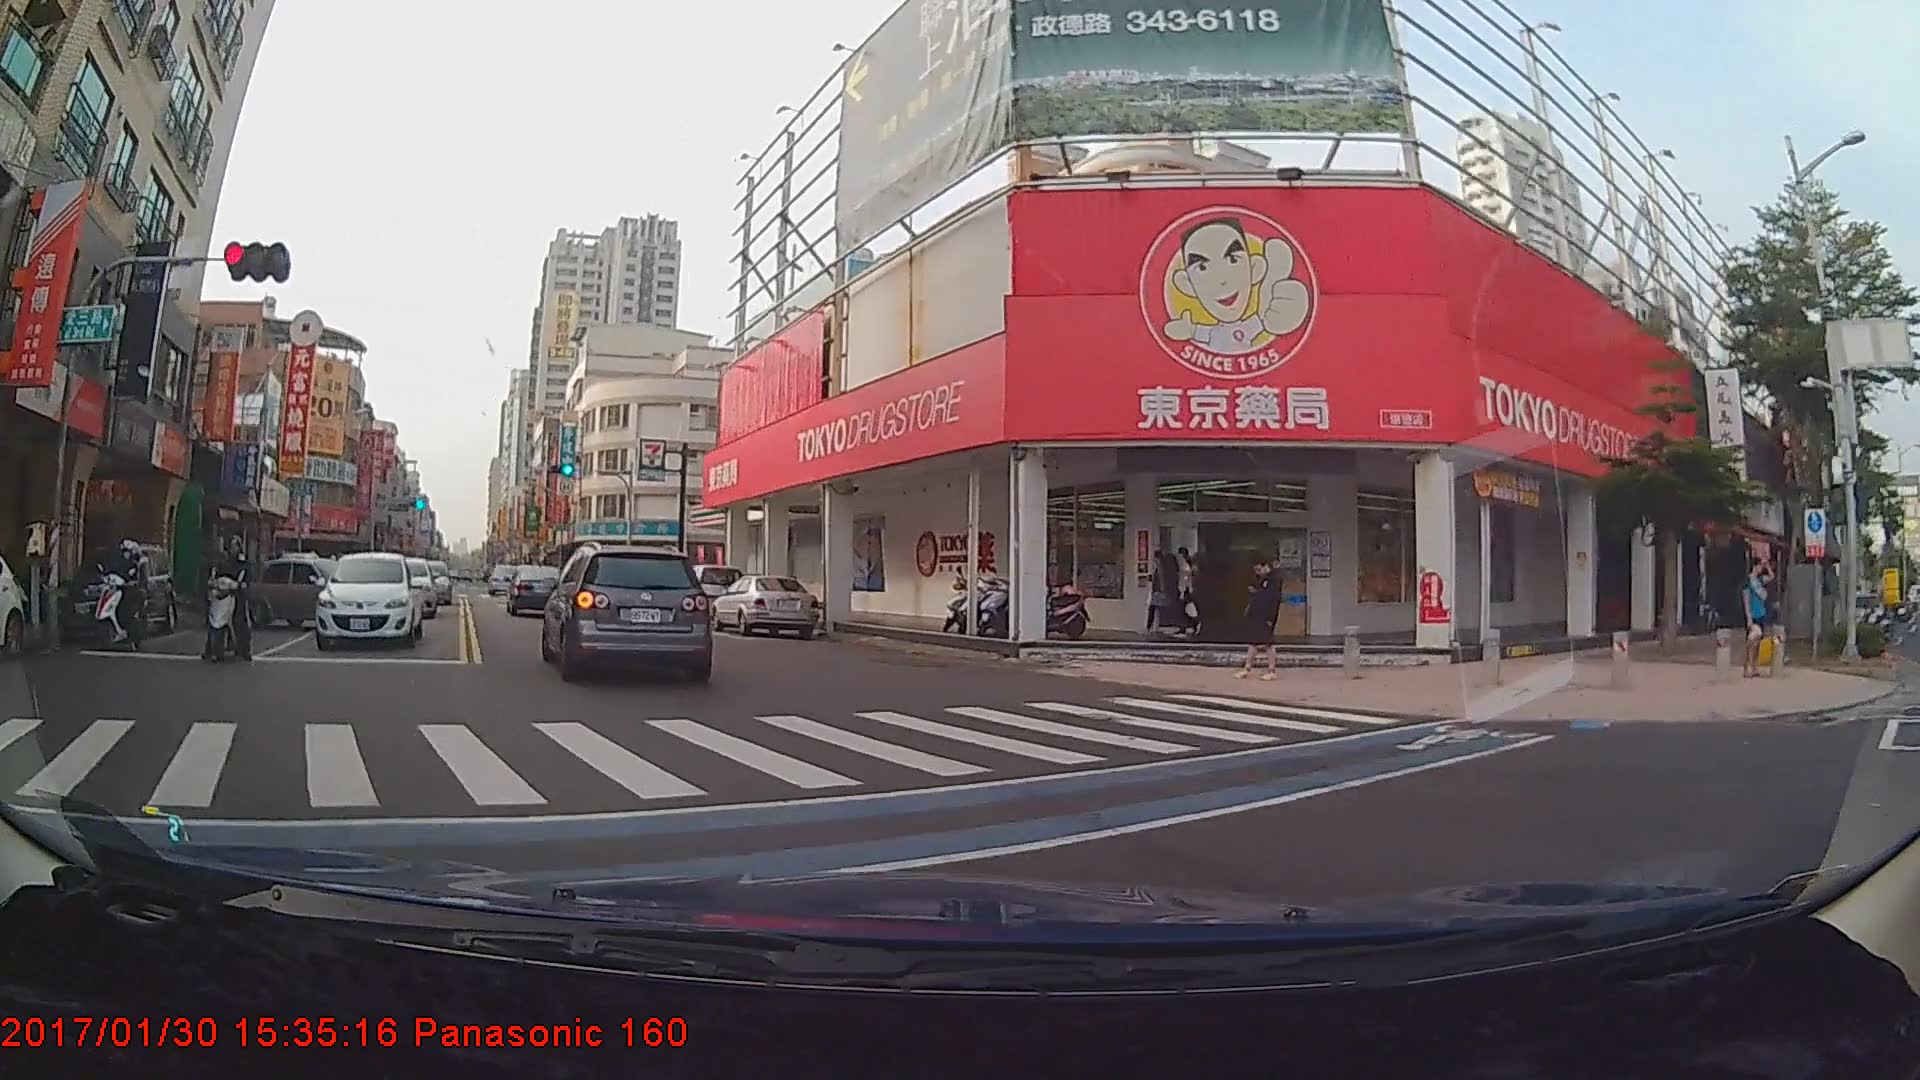pedestrian: (1234, 552, 1286, 681), (1738, 556, 1779, 684), (1142, 550, 1186, 634), (1174, 546, 1203, 641)
rider: (80, 551, 160, 665), (200, 537, 262, 666)
vehicle: (543, 544, 712, 682), (47, 546, 178, 652), (314, 562, 421, 660), (250, 558, 367, 629), (711, 574, 819, 639), (368, 555, 435, 620), (507, 568, 556, 617), (402, 561, 450, 610)
